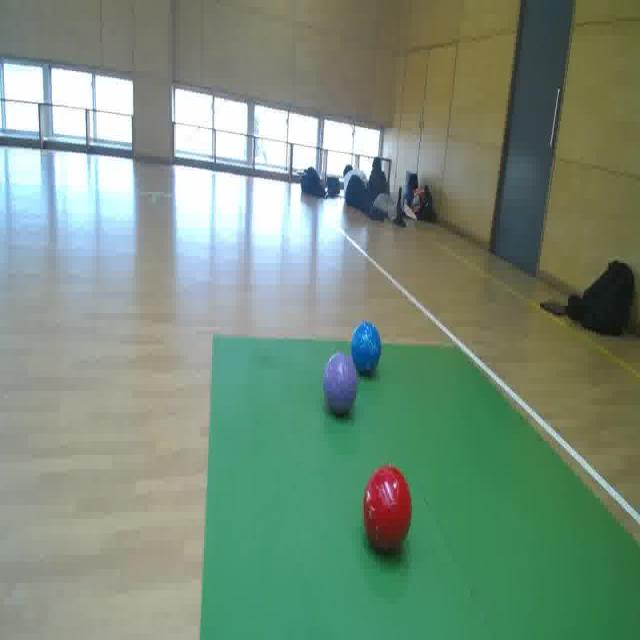blue_ball: (352, 320, 382, 376)
purple_ball: (324, 352, 358, 415)
red_ball: (364, 466, 412, 556)
